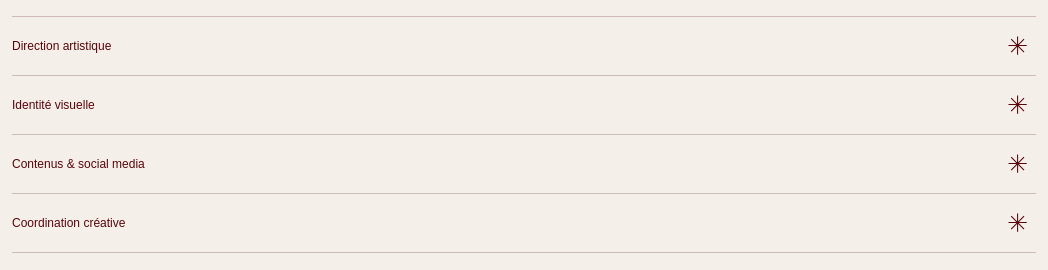
Test: Expertises › ouvre et referme une expertise avec une région nommée et une étoile décorative
Click the button "Direction artistique" at (62, 46), box 12,17 -> 1036,75
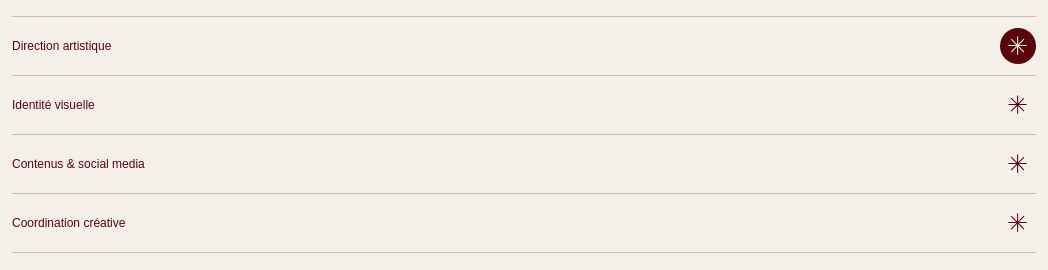
Expected: the button "Direction artistique" is expanded
Click the button "Direction artistique" at (62, 46), box 12,17 -> 1036,75
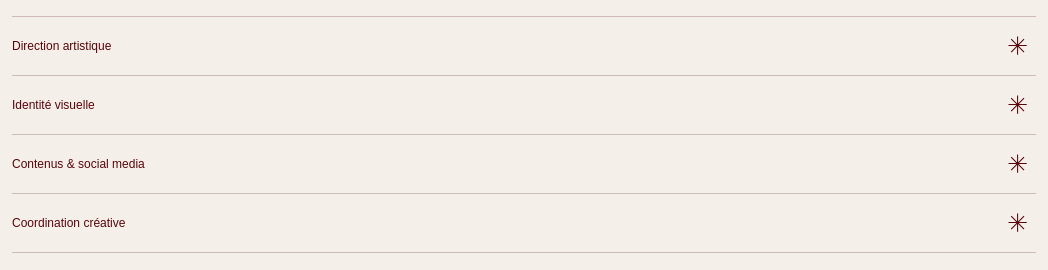
Expected: the button "Direction artistique" is collapsed, 12,17 -> 1036,75
